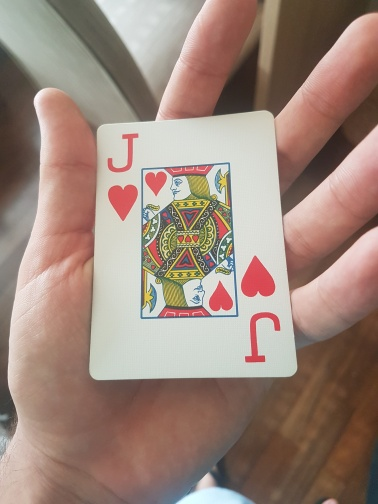jack: (88, 110, 299, 379)
